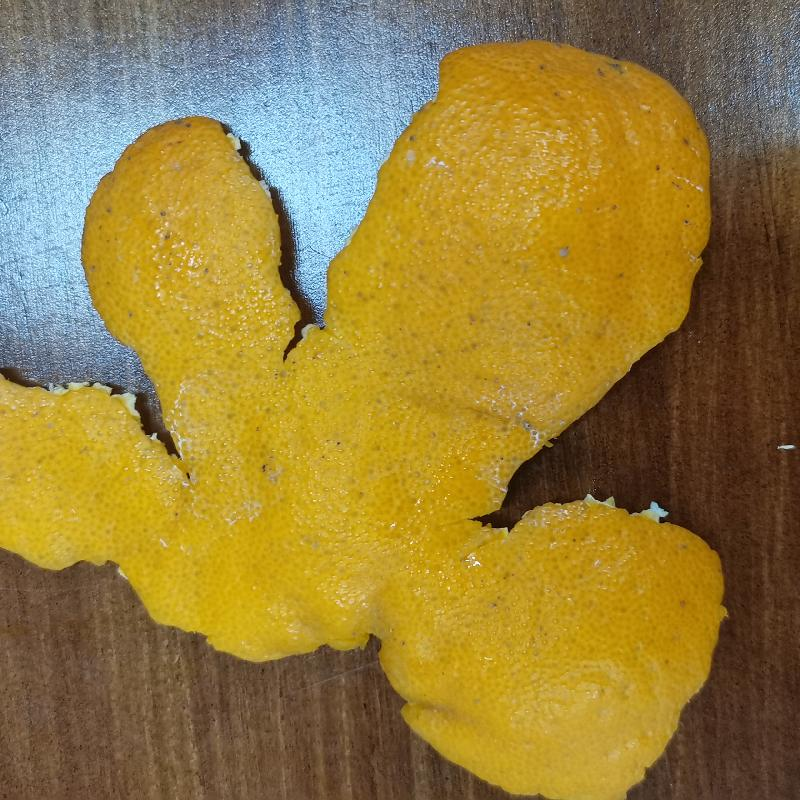orange: (0, 44, 729, 800)
